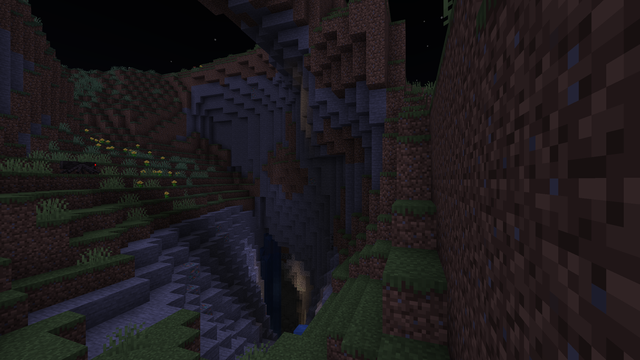araignees: (61, 159, 100, 174)
